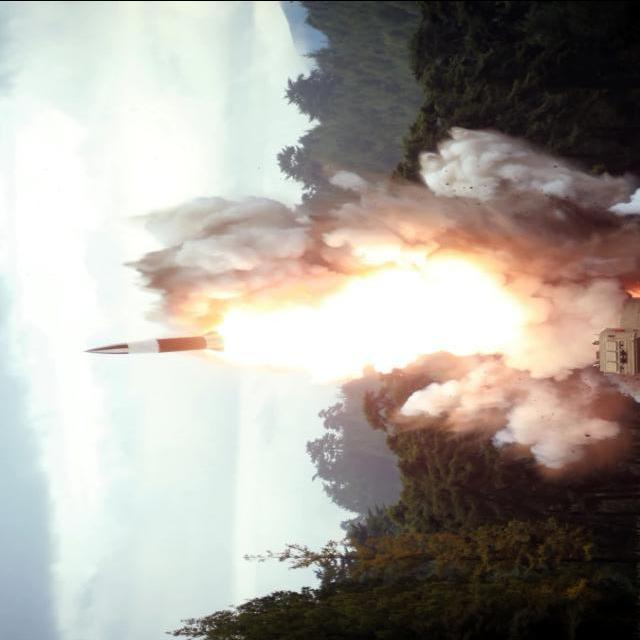Missile: (74, 327, 224, 361)
